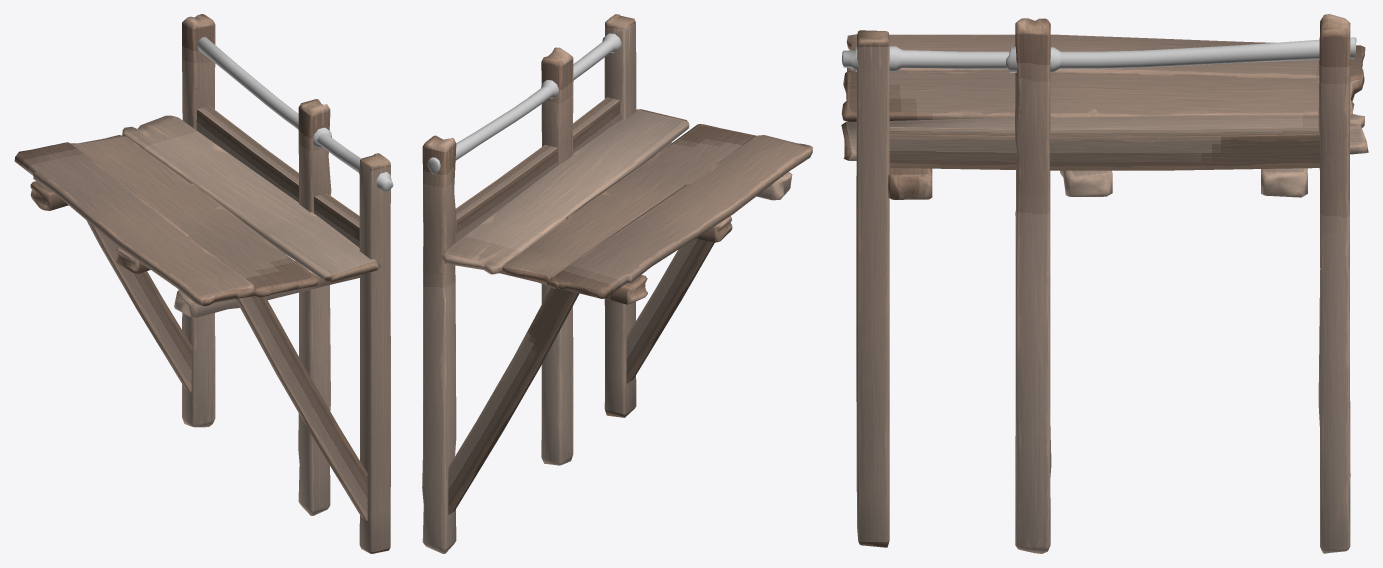
The model's file is SM_Walkway_02.fbx.
The picture shows the model from 3 angles, left to right: view 1: azimuth 30°, elevation 25°; view 2: azimuth 150°, elevation 25°; view 3: azimuth 270°, elevation 25°; orthographic projection. The views are drawn at different scales.
Visible parts, largest first — view 1: SM_Walkway_02_LOD0; view 2: SM_Walkway_02_LOD0; view 3: SM_Walkway_02_LOD0.
Part boxes in pixels (<box>): SM_Walkway_02_LOD0: <box>14,14,393,553</box>; SM_Walkway_02_LOD0: <box>422,14,812,553</box>; SM_Walkway_02_LOD0: <box>841,14,1368,553</box>.
Bounding box in the file's own units: 207 × 363 × 402.
